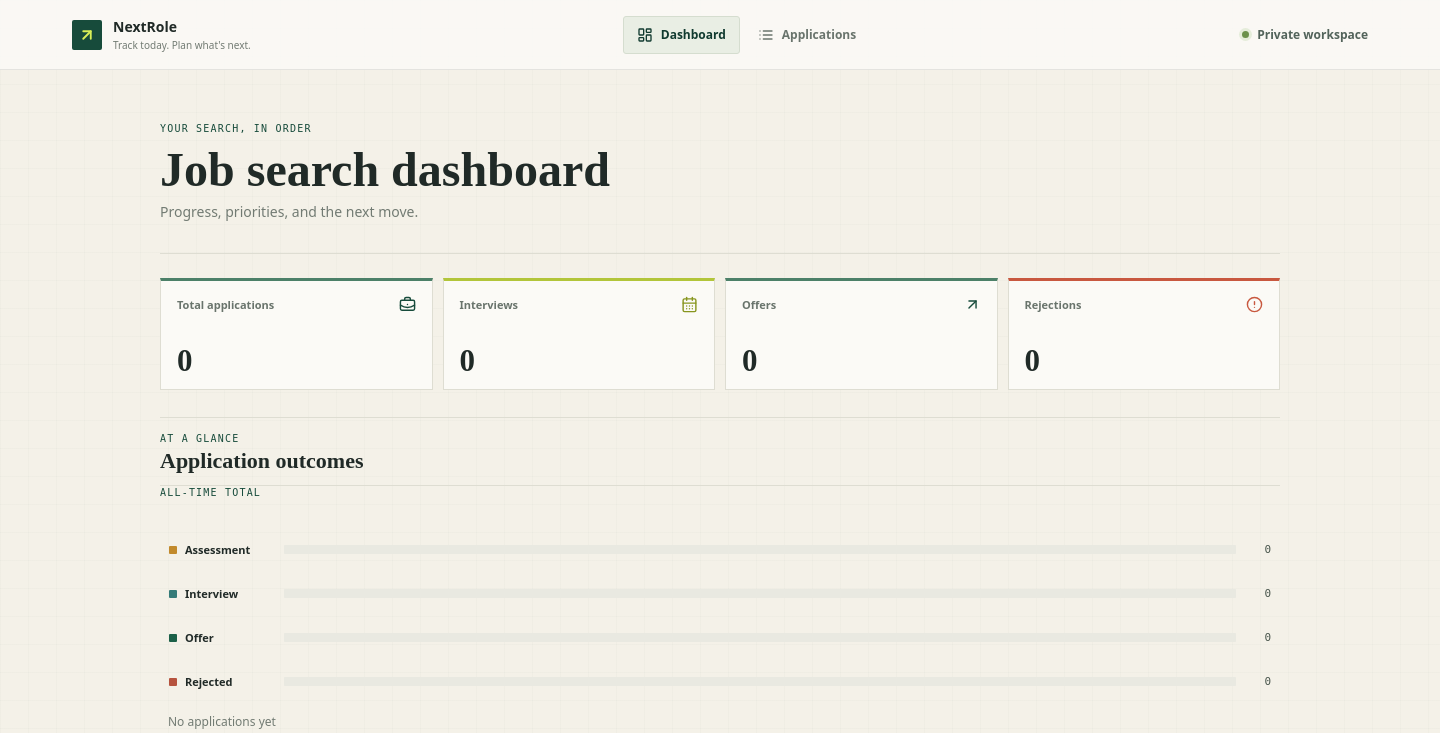
Test: Application tracker › shows field-specific server validation and preserves entered values
This screenshot has width=1440, height=733.
Click the button "Applications" at point(807, 34), box [744,16,870,54]
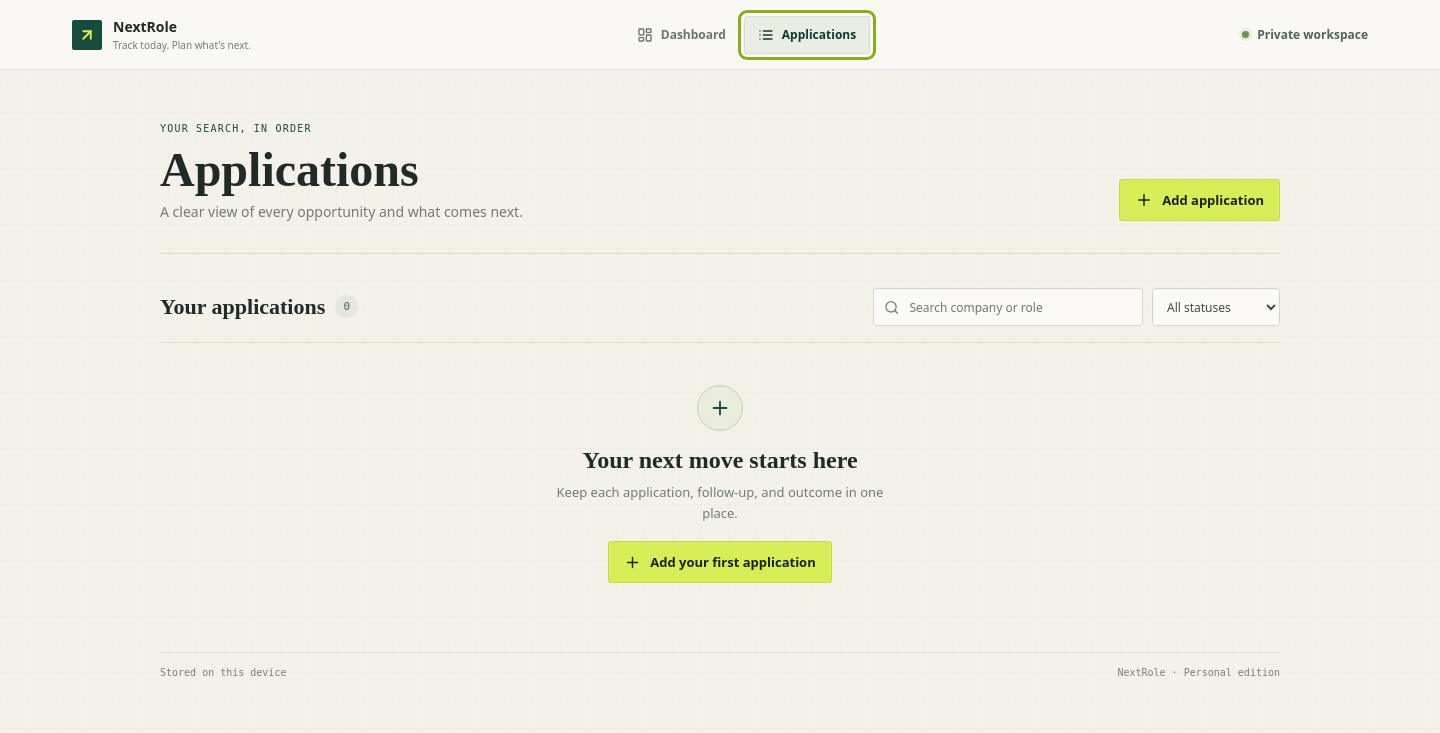
Click the button "Add application" at point(1200, 200), box [1119,179,1280,221]
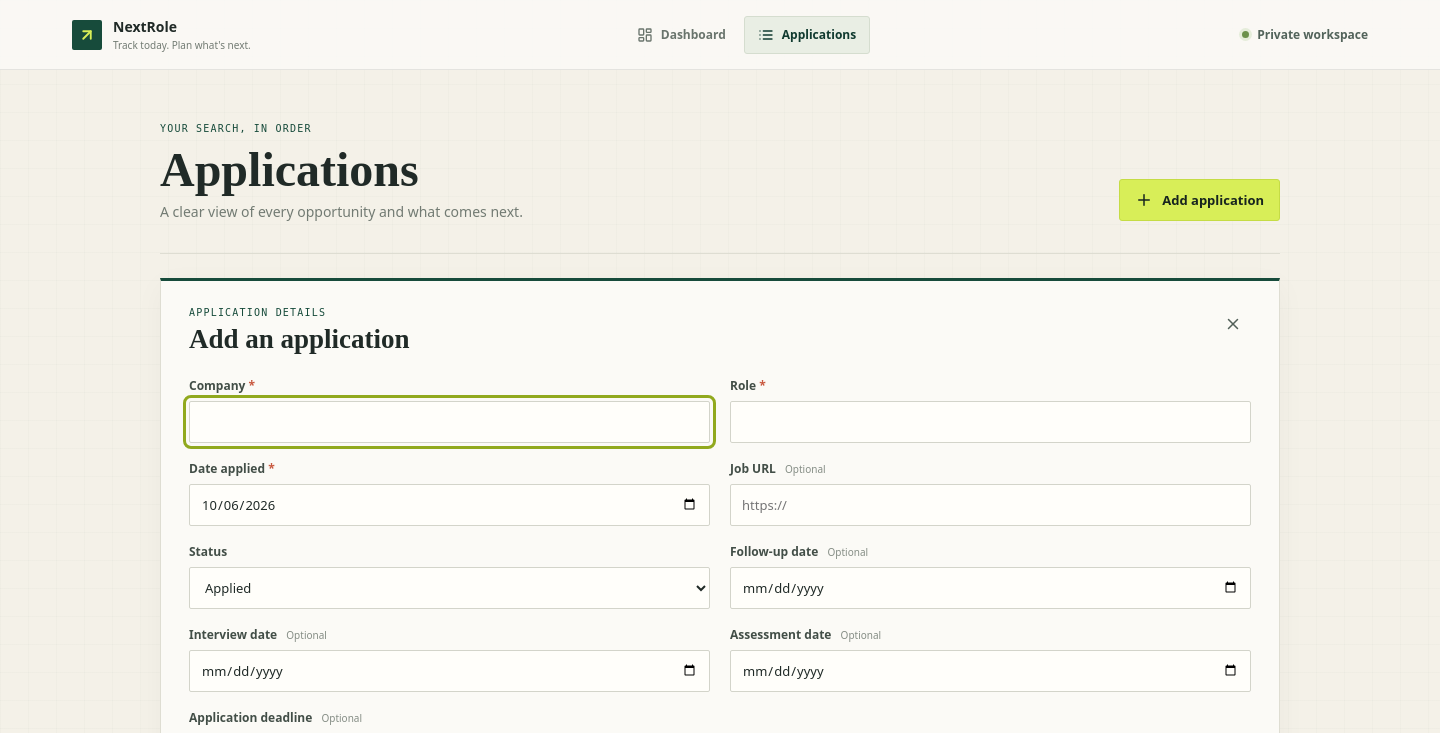
Type "Entered Co" into the field labelled "Company *" at point(450, 422), box [189,401,710,443]
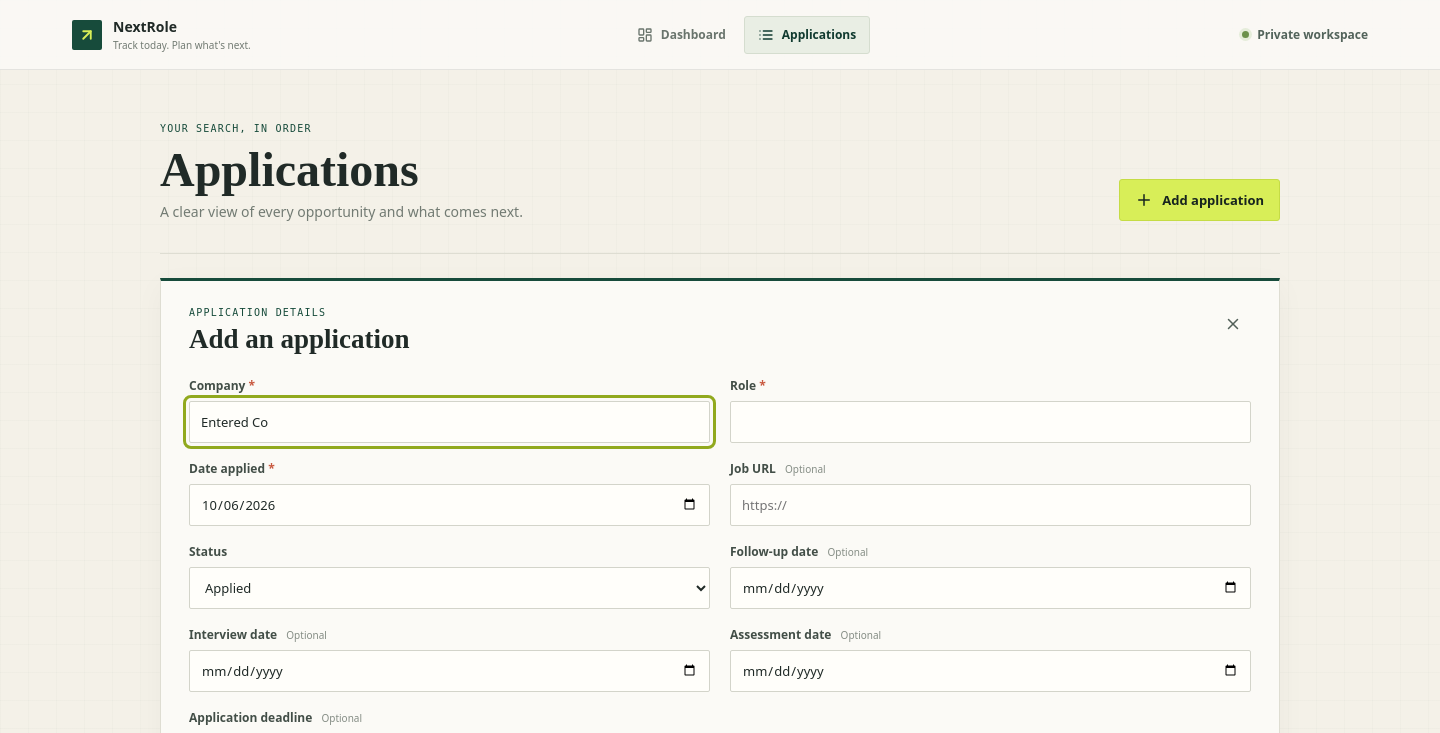
Type "Analyst" into the field labelled "Role *" at point(990, 422), box [730,401,1251,443]
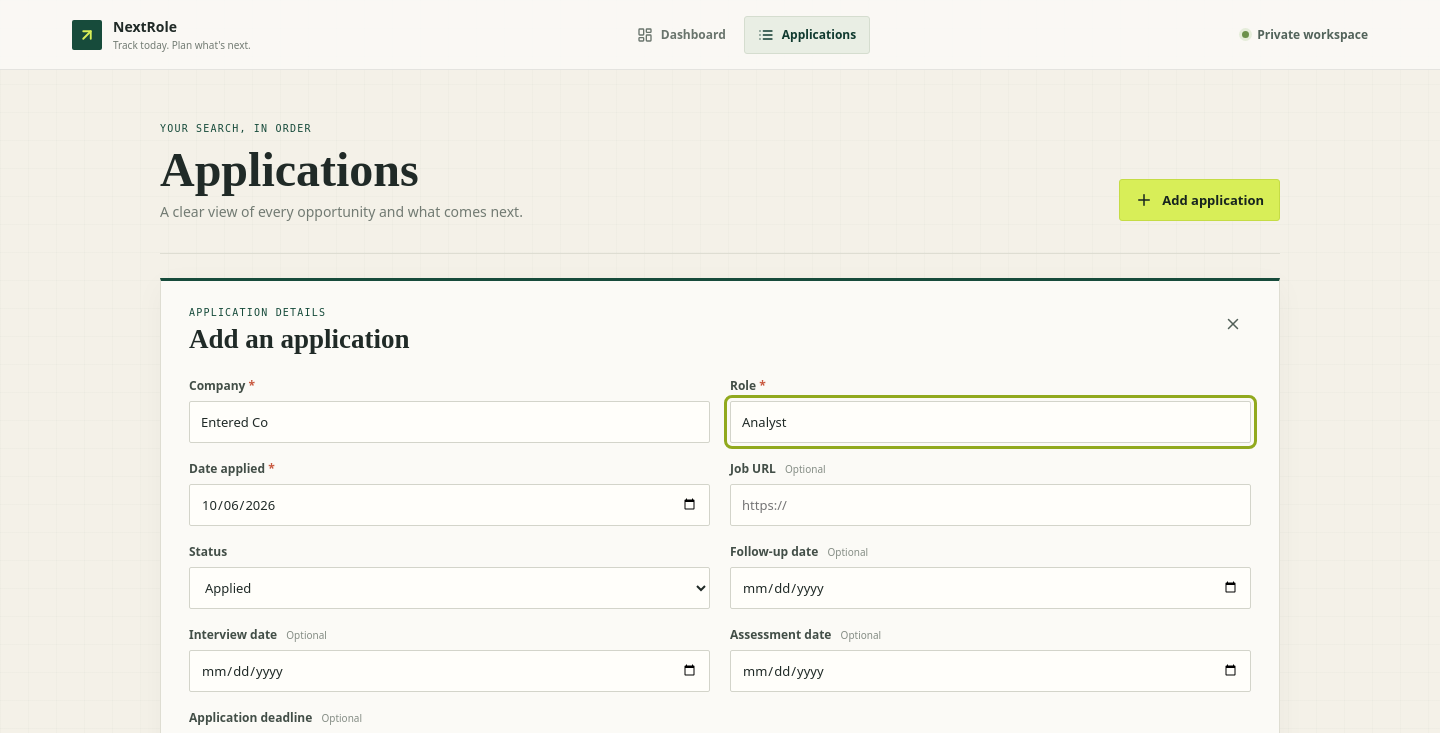
Type "2026-09-29" into the date field labelled "Date applied *" at point(450, 505), box [189,484,710,526]
(page scrolled)
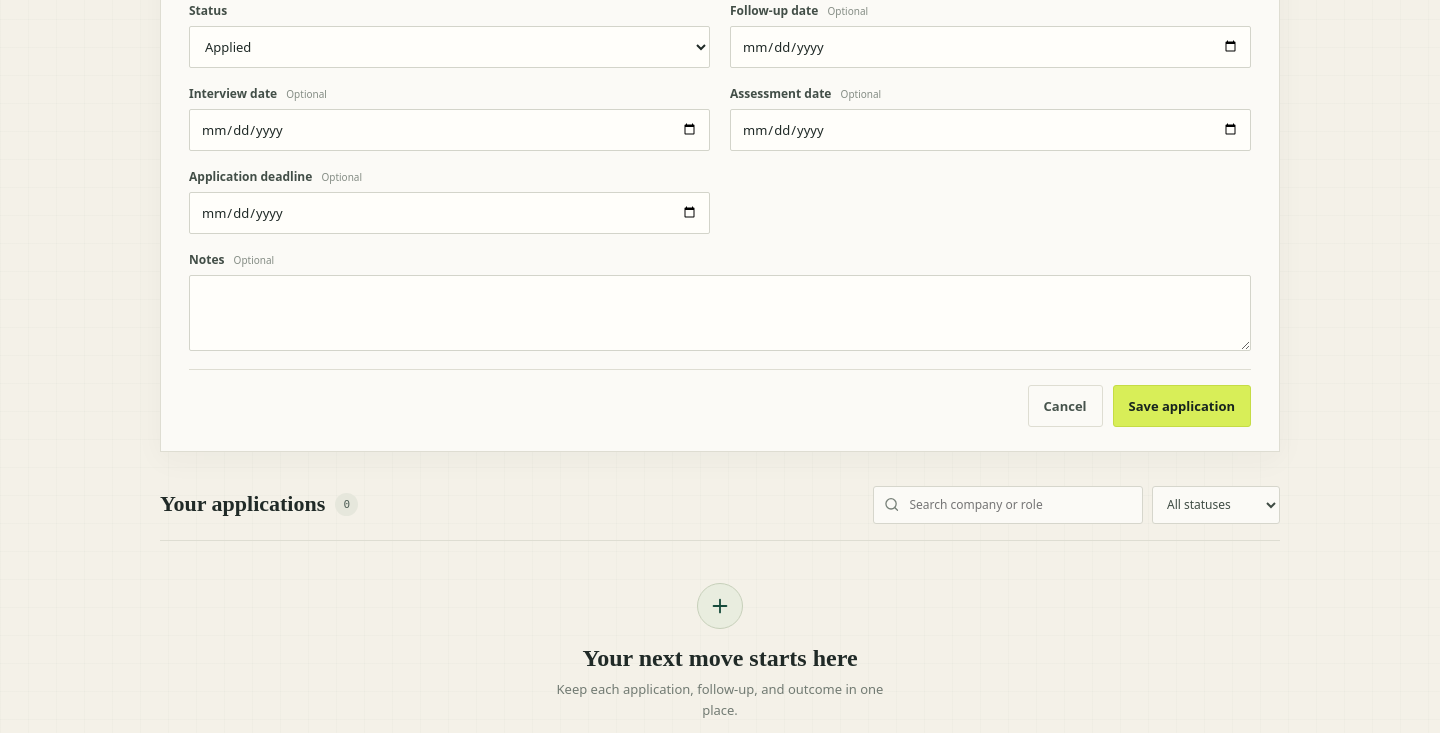
Click the button "Save application" at point(1182, 406), box [1112,385,1251,427]
(page scrolled)
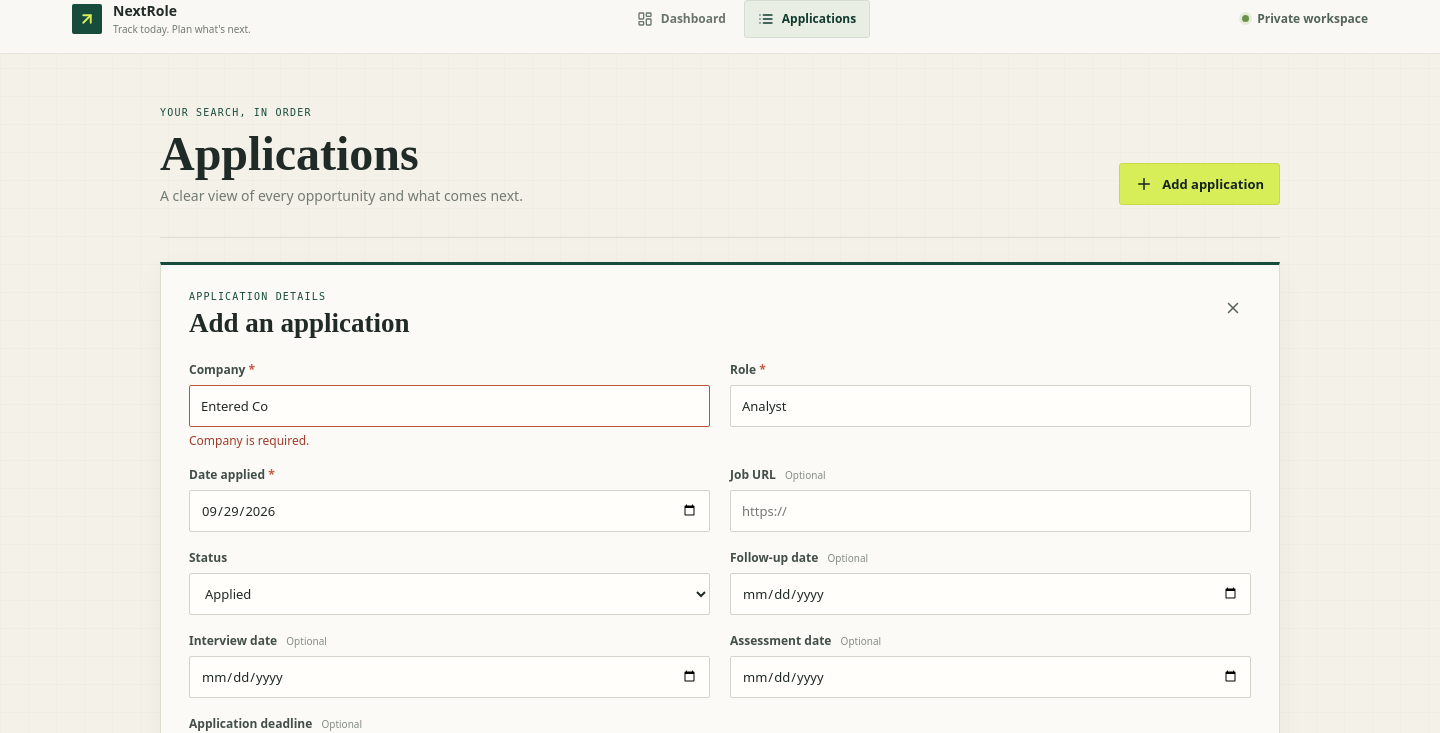
Now the text "Company is required." is shown, box [189,432,309,449]
